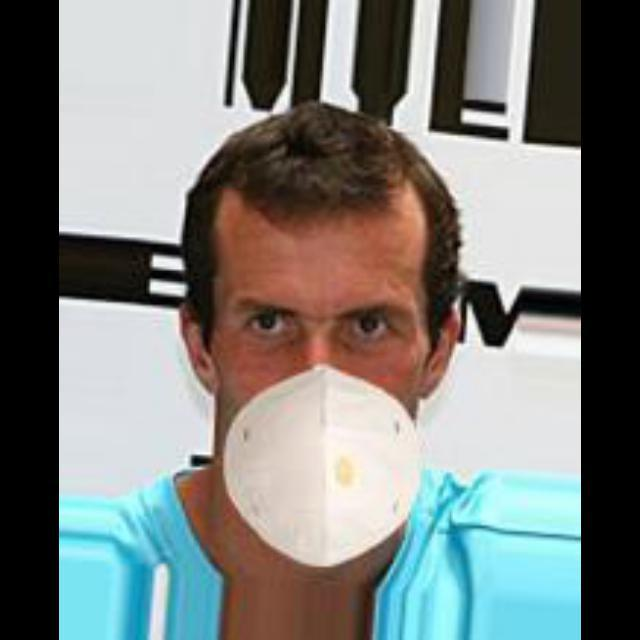suspicion: (110, 114, 503, 552)
